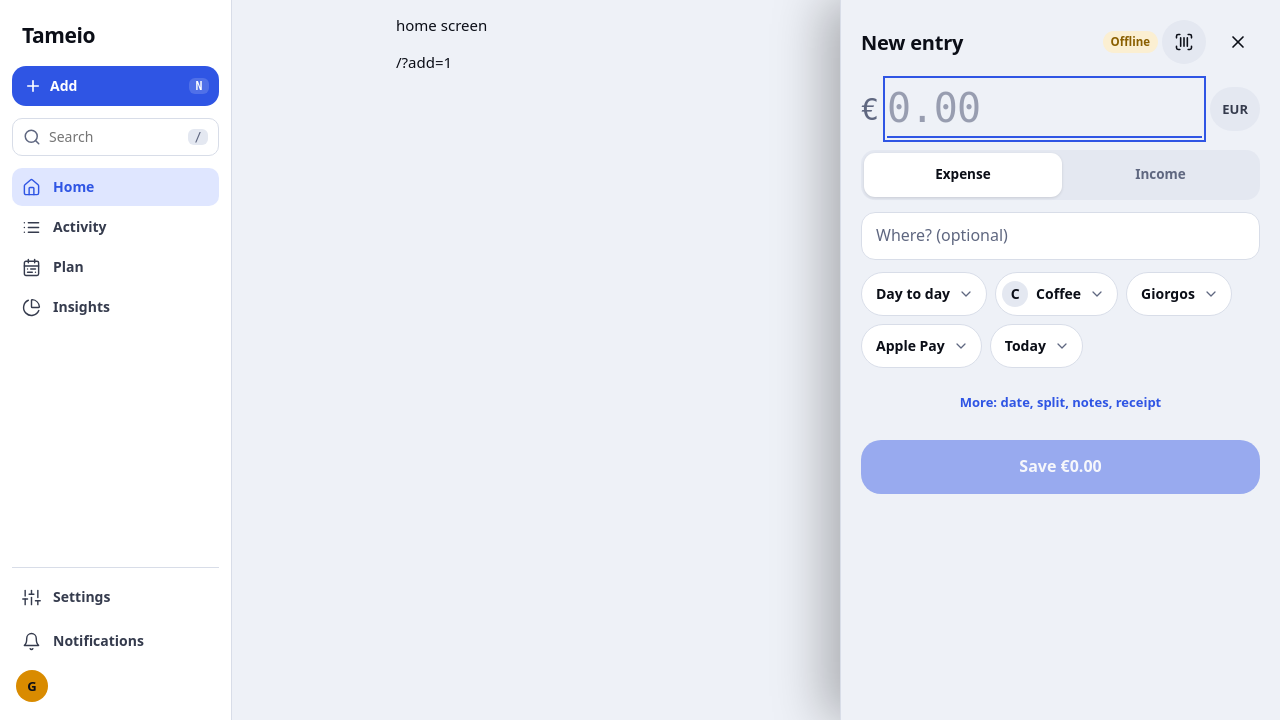
it: the offline queue works through the panel
This screenshot has width=1280, height=720.
Step 1. Type "3" into the field named "Amount" → (1045,109), box [887,80,1202,138]
Then press Enter
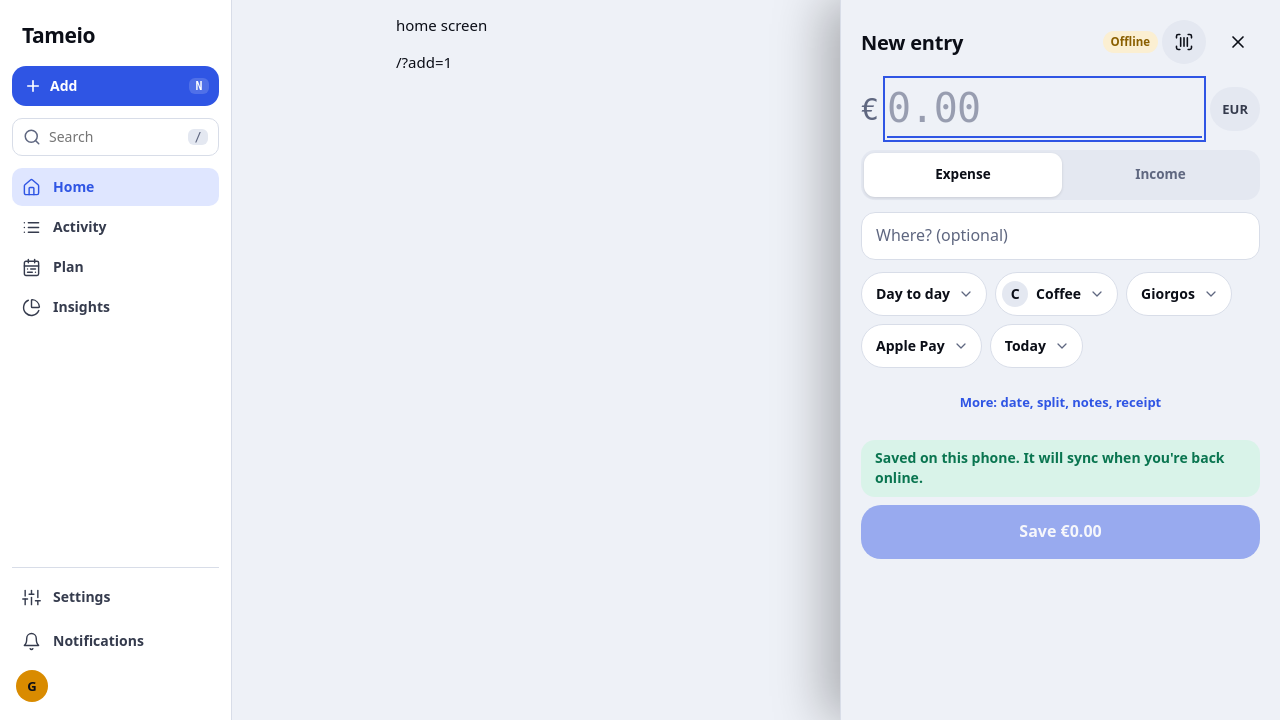
Expected: the element "entry" is shown, [840,0,1279,719]
Now the message reads "Saved on this phone. It will sync when you're back online.", box [875,448,1225,487]
